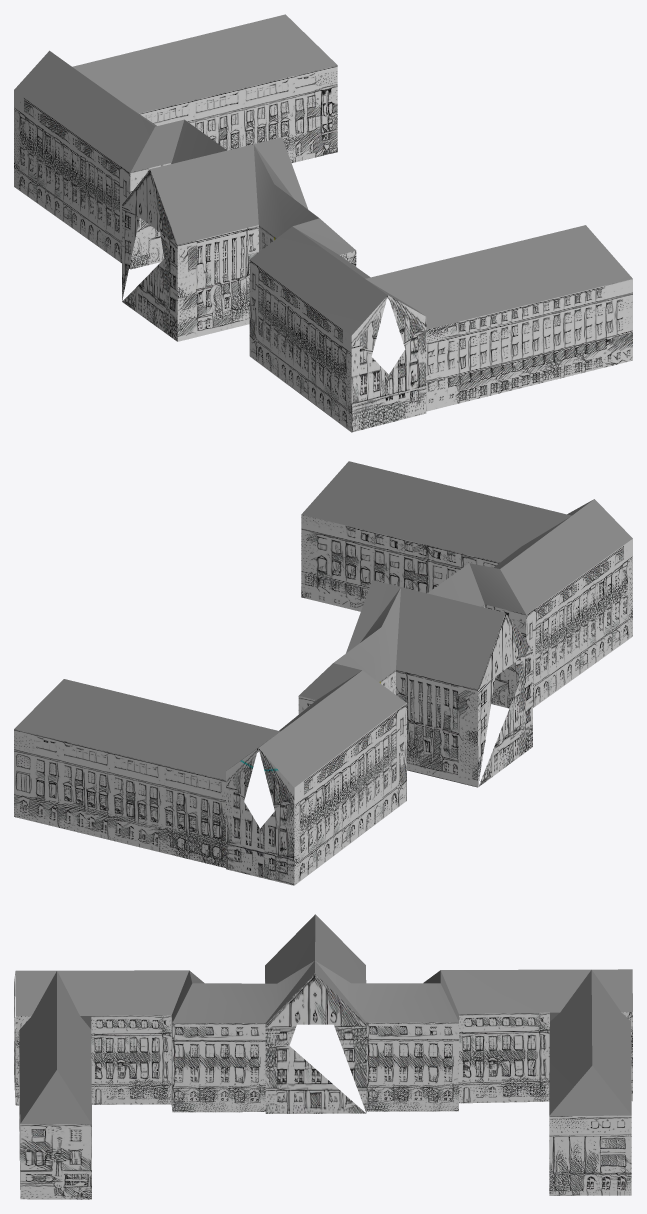
The model's file is Fritz-Foester-Bau.gltf.
The picture shows the model from 3 angles, top to bottom: view 1: azimuth 30°, elevation 25°; view 2: azimuth 150°, elevation 25°; view 3: azimuth 270°, elevation 25°; orthographic projection. The views are drawn at different scales.
Parts seen in each view (by area): view 1: Dach.1; view 2: Dach.1; view 3: Dach.1.
Boxes of the visible parts, <box> form: Dach.1: <box>14,14,632,432</box>; Dach.1: <box>14,461,632,885</box>; Dach.1: <box>14,914,632,1199</box>.
Size of the model in its own units: 67.71 by 30.51 by 122.
Materials: 21 (20 with a texture image).
